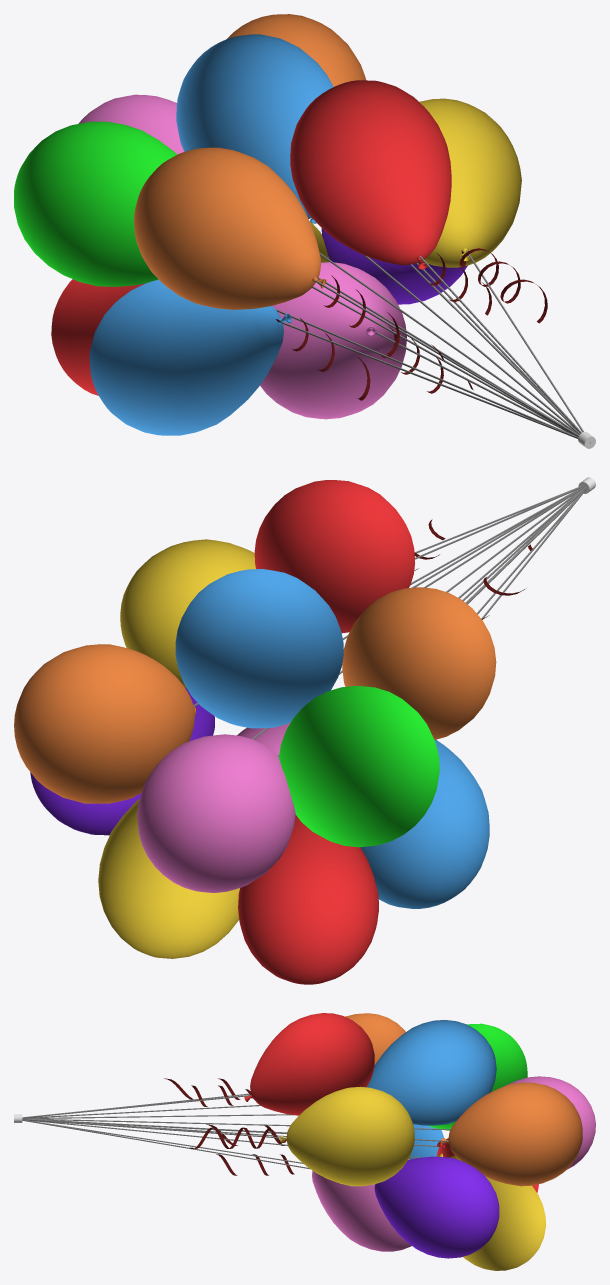
Rendered from Ballons_NEW.fbx.
The picture shows the model from 3 angles, top to bottom: view 1: azimuth 30°, elevation 25°; view 2: azimuth 150°, elevation 25°; view 3: azimuth 270°, elevation 25°; orthographic projection. The views are drawn at different scales.
Visible parts, largest first — view 1: imagetostl_mesh4, imagetostl_mesh6, imagetostl_mesh11, imagetostl_mesh3, imagetostl_mesh0, imagetostl_mesh12, imagetostl_mesh8, imagetostl_mesh25, imagetostl_mesh1, imagetostl_mesh10, imagetostl_mesh2, imagetostl_mesh18 (+8 smaller); view 2: imagetostl_mesh1, imagetostl_mesh0, imagetostl_mesh3, imagetostl_mesh2, imagetostl_mesh25, imagetostl_mesh4, imagetostl_mesh6, imagetostl_mesh11, imagetostl_mesh14, imagetostl_mesh8, imagetostl_mesh10, imagetostl_mesh12; view 3: imagetostl_mesh1, imagetostl_mesh8, imagetostl_mesh0, imagetostl_mesh10, imagetostl_mesh6, imagetostl_mesh14, imagetostl_mesh12, imagetostl_mesh3, imagetostl_mesh2, imagetostl_mesh4, imagetostl_mesh11, imagetostl_mesh22 (+9 smaller).
Part boxes in pixels (x1=…): imagetostl_mesh4: x1=134, y1=147, x2=326, y2=309; imagetostl_mesh6: x1=290, y1=80, x2=451, y2=269; imagetostl_mesh11: x1=89, y1=279, x2=291, y2=435; imagetostl_mesh3: x1=14, y1=121, x2=177, y2=286; imagetostl_mesh0: x1=176, y1=34, x2=333, y2=223; imagetostl_mesh12: x1=260, y1=262, x2=406, y2=419; imagetostl_mesh8: x1=419, y1=98, x2=521, y2=267; imagetostl_mesh25: x1=51, y1=279, x2=145, y2=395; imagetostl_mesh1: x1=227, y1=14, x2=365, y2=86; imagetostl_mesh10: x1=321, y1=228, x2=467, y2=304; imagetostl_mesh2: x1=78, y1=94, x2=184, y2=154; imagetostl_mesh18: x1=281, y1=322, x2=577, y2=438; imagetostl_mesh1: x1=14, y1=644, x2=195, y2=803; imagetostl_mesh0: x1=175, y1=569, x2=343, y2=728; imagetostl_mesh3: x1=279, y1=686, x2=439, y2=847; imagetostl_mesh2: x1=137, y1=734, x2=295, y2=892; imagetostl_mesh25: x1=238, y1=815, x2=378, y2=984; imagetostl_mesh4: x1=342, y1=587, x2=496, y2=739; imagetostl_mesh6: x1=254, y1=480, x2=414, y2=633; imagetostl_mesh11: x1=360, y1=740, x2=489, y2=908; imagetostl_mesh14: x1=98, y1=798, x2=239, y2=958; imagetostl_mesh8: x1=120, y1=539, x2=255, y2=688; imagetostl_mesh10: x1=30, y1=688, x2=214, y2=835; imagetostl_mesh12: x1=237, y1=722, x2=290, y2=755; imagetostl_mesh1: x1=441, y1=1082, x2=582, y2=1186; imagetostl_mesh8: x1=279, y1=1086, x2=414, y2=1186; imagetostl_mesh0: x1=367, y1=1020, x2=496, y2=1125; imagetostl_mesh10: x1=374, y1=1156, x2=499, y2=1258; imagetostl_mesh6: x1=244, y1=1013, x2=374, y2=1115; imagetostl_mesh14: x1=438, y1=1153, x2=545, y2=1270; imagetostl_mesh12: x1=312, y1=1159, x2=411, y2=1251; imagetostl_mesh3: x1=428, y1=1023, x2=527, y2=1130; imagetostl_mesh2: x1=505, y1=1076, x2=595, y2=1169; imagetostl_mesh4: x1=345, y1=1013, x2=405, y2=1065; imagetostl_mesh11: x1=409, y1=1124, x2=443, y2=1159; imagetostl_mesh22: x1=27, y1=1118, x2=450, y2=1130.
Size of the model in its own units: 929 by 807 by 1763.
